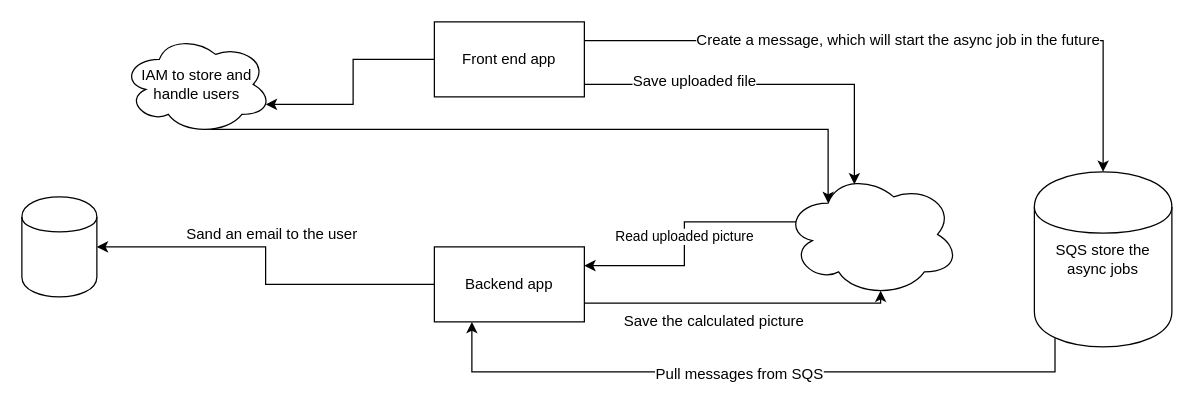
The diagram is 1194 pixels wide and 404 high, and some of its shapes have lost their labels. Each missing label, with the centre of its shape:
"S3 for storing uploaded images and the calculated results" goes at point (871, 234).
"SNS" goes at point (59, 246).
